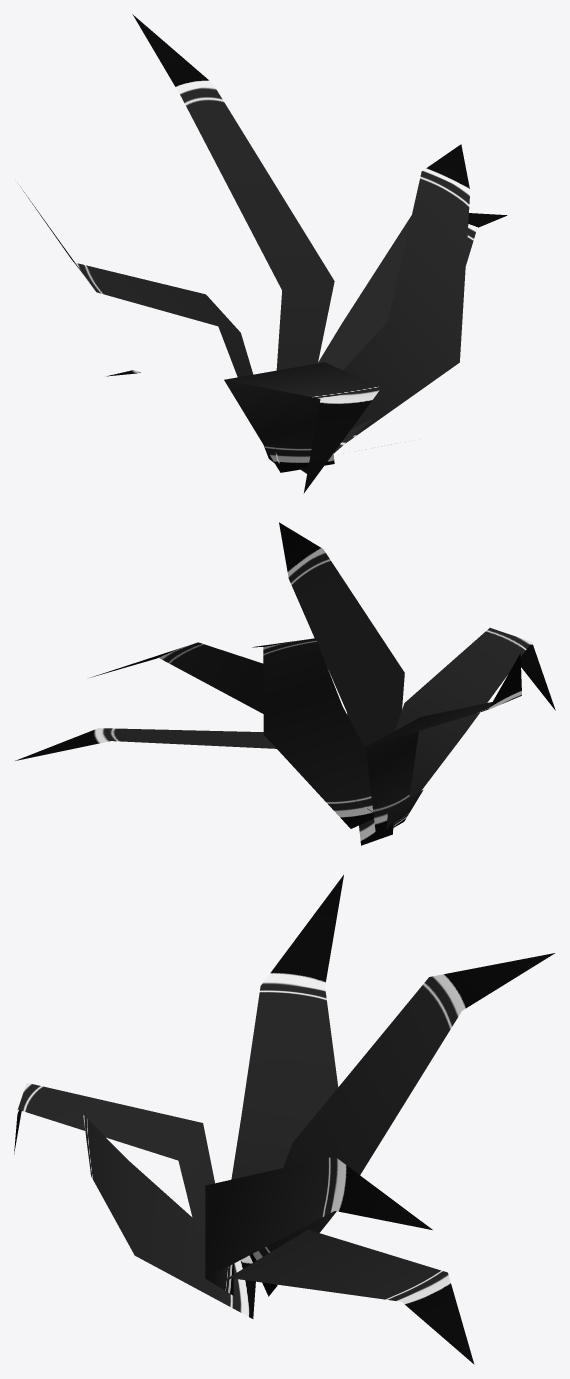
File: SM_GRASS01.fbx
3 views of the same model, one above another, from view 1: azimuth 30°, elevation 25°; view 2: azimuth 150°, elevation 25°; view 3: azimuth 270°, elevation 25° (orthographic). The views are drawn at different scales.
Visible parts, largest first — view 1: SM_GRASS01; view 2: SM_GRASS01; view 3: SM_GRASS01.
Boxes of the visible parts, x1,y1,x2,y2 form: SM_GRASS01: (20, 14, 507, 493); SM_GRASS01: (15, 522, 555, 845); SM_GRASS01: (14, 875, 554, 1364).
Size of the model in its own units: 30.25 by 18.66 by 25.6.
